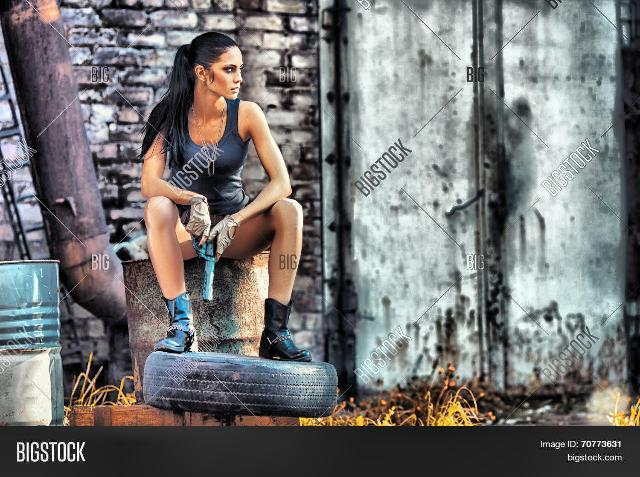pistol: (186, 222, 218, 300)
